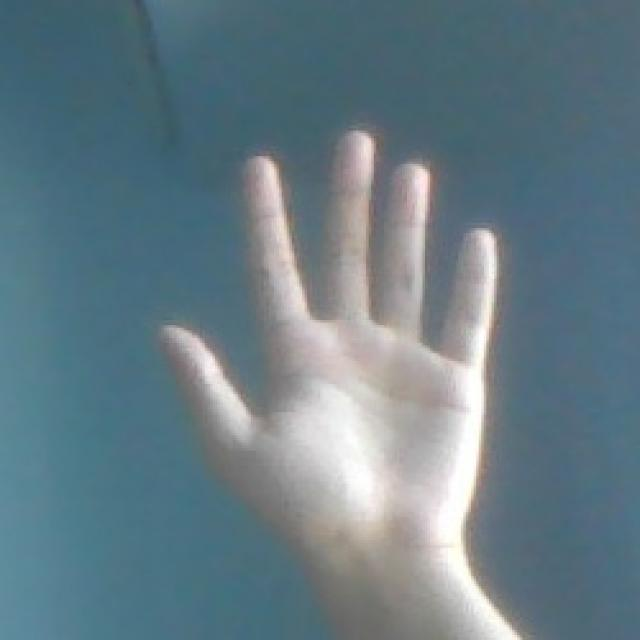Numeric-5: (151, 117, 498, 578)
